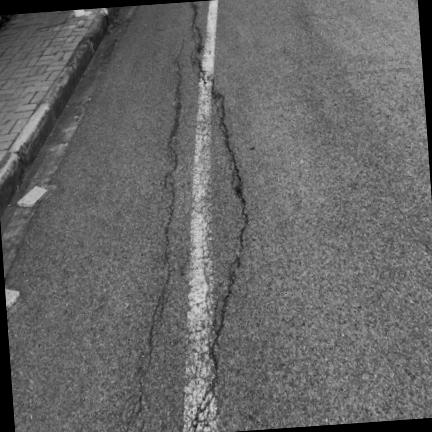Road: (6, 0, 431, 431)
